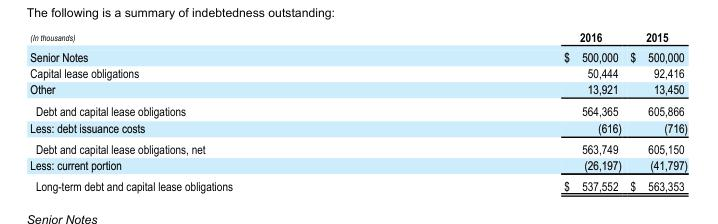table: (29, 29, 686, 192)
table column: (29, 29, 397, 192), (397, 29, 625, 192), (625, 29, 686, 192)
table column header: (29, 29, 686, 46)
table row: (29, 99, 686, 119), (29, 80, 686, 99), (29, 119, 686, 138), (29, 156, 686, 175), (29, 46, 686, 64), (29, 138, 686, 156), (29, 29, 686, 46), (29, 175, 686, 192), (29, 64, 686, 80)
